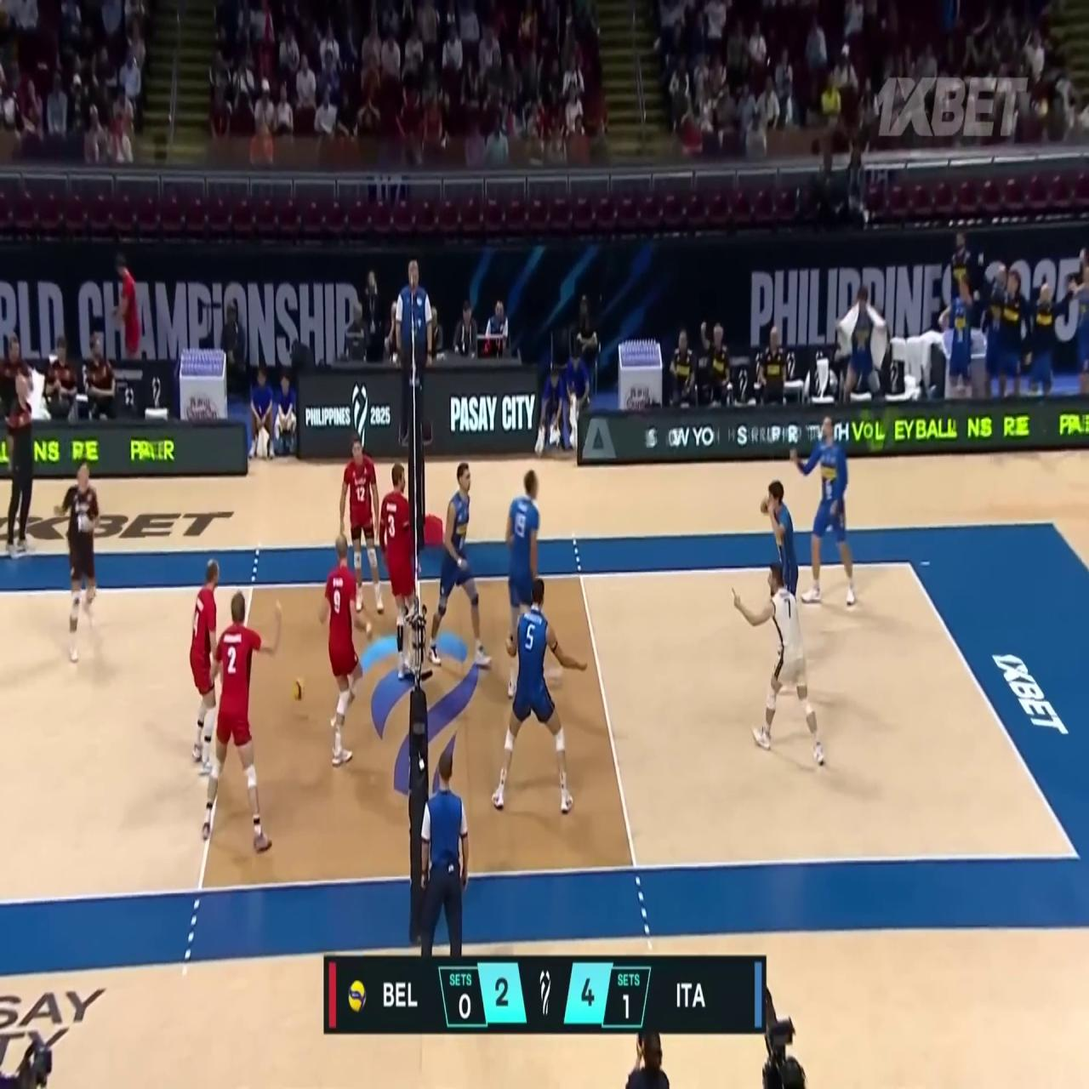ball: (293, 679, 306, 702)
